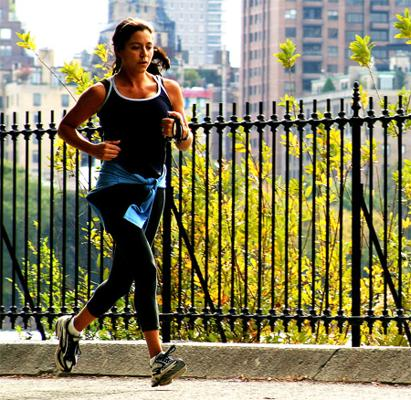person: (53, 18, 196, 393)
